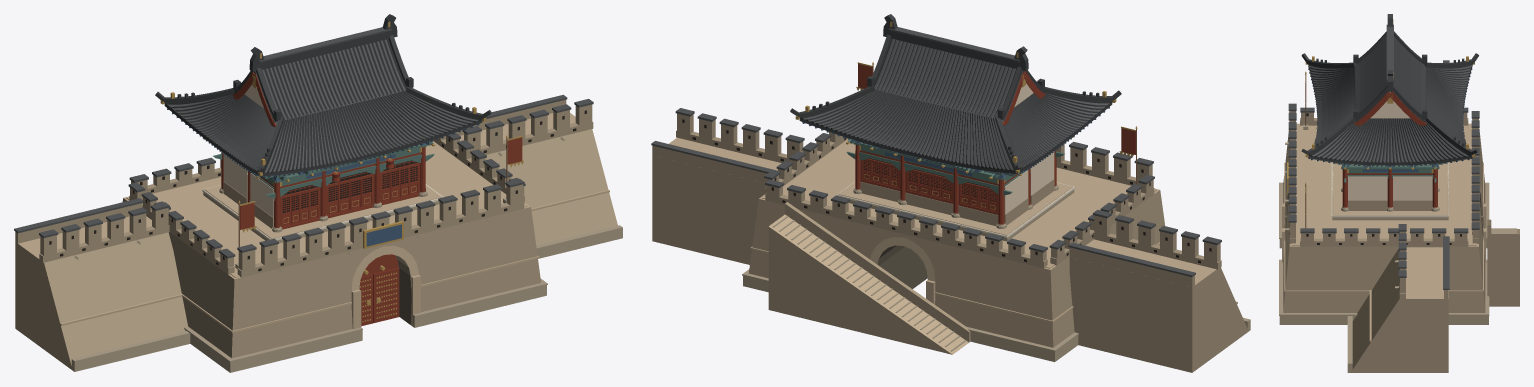
3 views of the same model, side by side, from view 1: azimuth 30°, elevation 25°; view 2: azimuth 150°, elevation 25°; view 3: azimuth 270°, elevation 25° (orthographic). The views are drawn at different scales.
Visible parts, largest first — view 1: K04a; view 2: K04a; view 3: K04a.
Boxes of the visible parts, x1=… form: K04a: x1=14, y1=14, x2=622, y2=372; K04a: x1=651, y1=14, x2=1250, y2=372; K04a: x1=1279, y1=14, x2=1519, y2=372.
Bounding box in the file's own units: 53 × 23.48 × 23.61.
